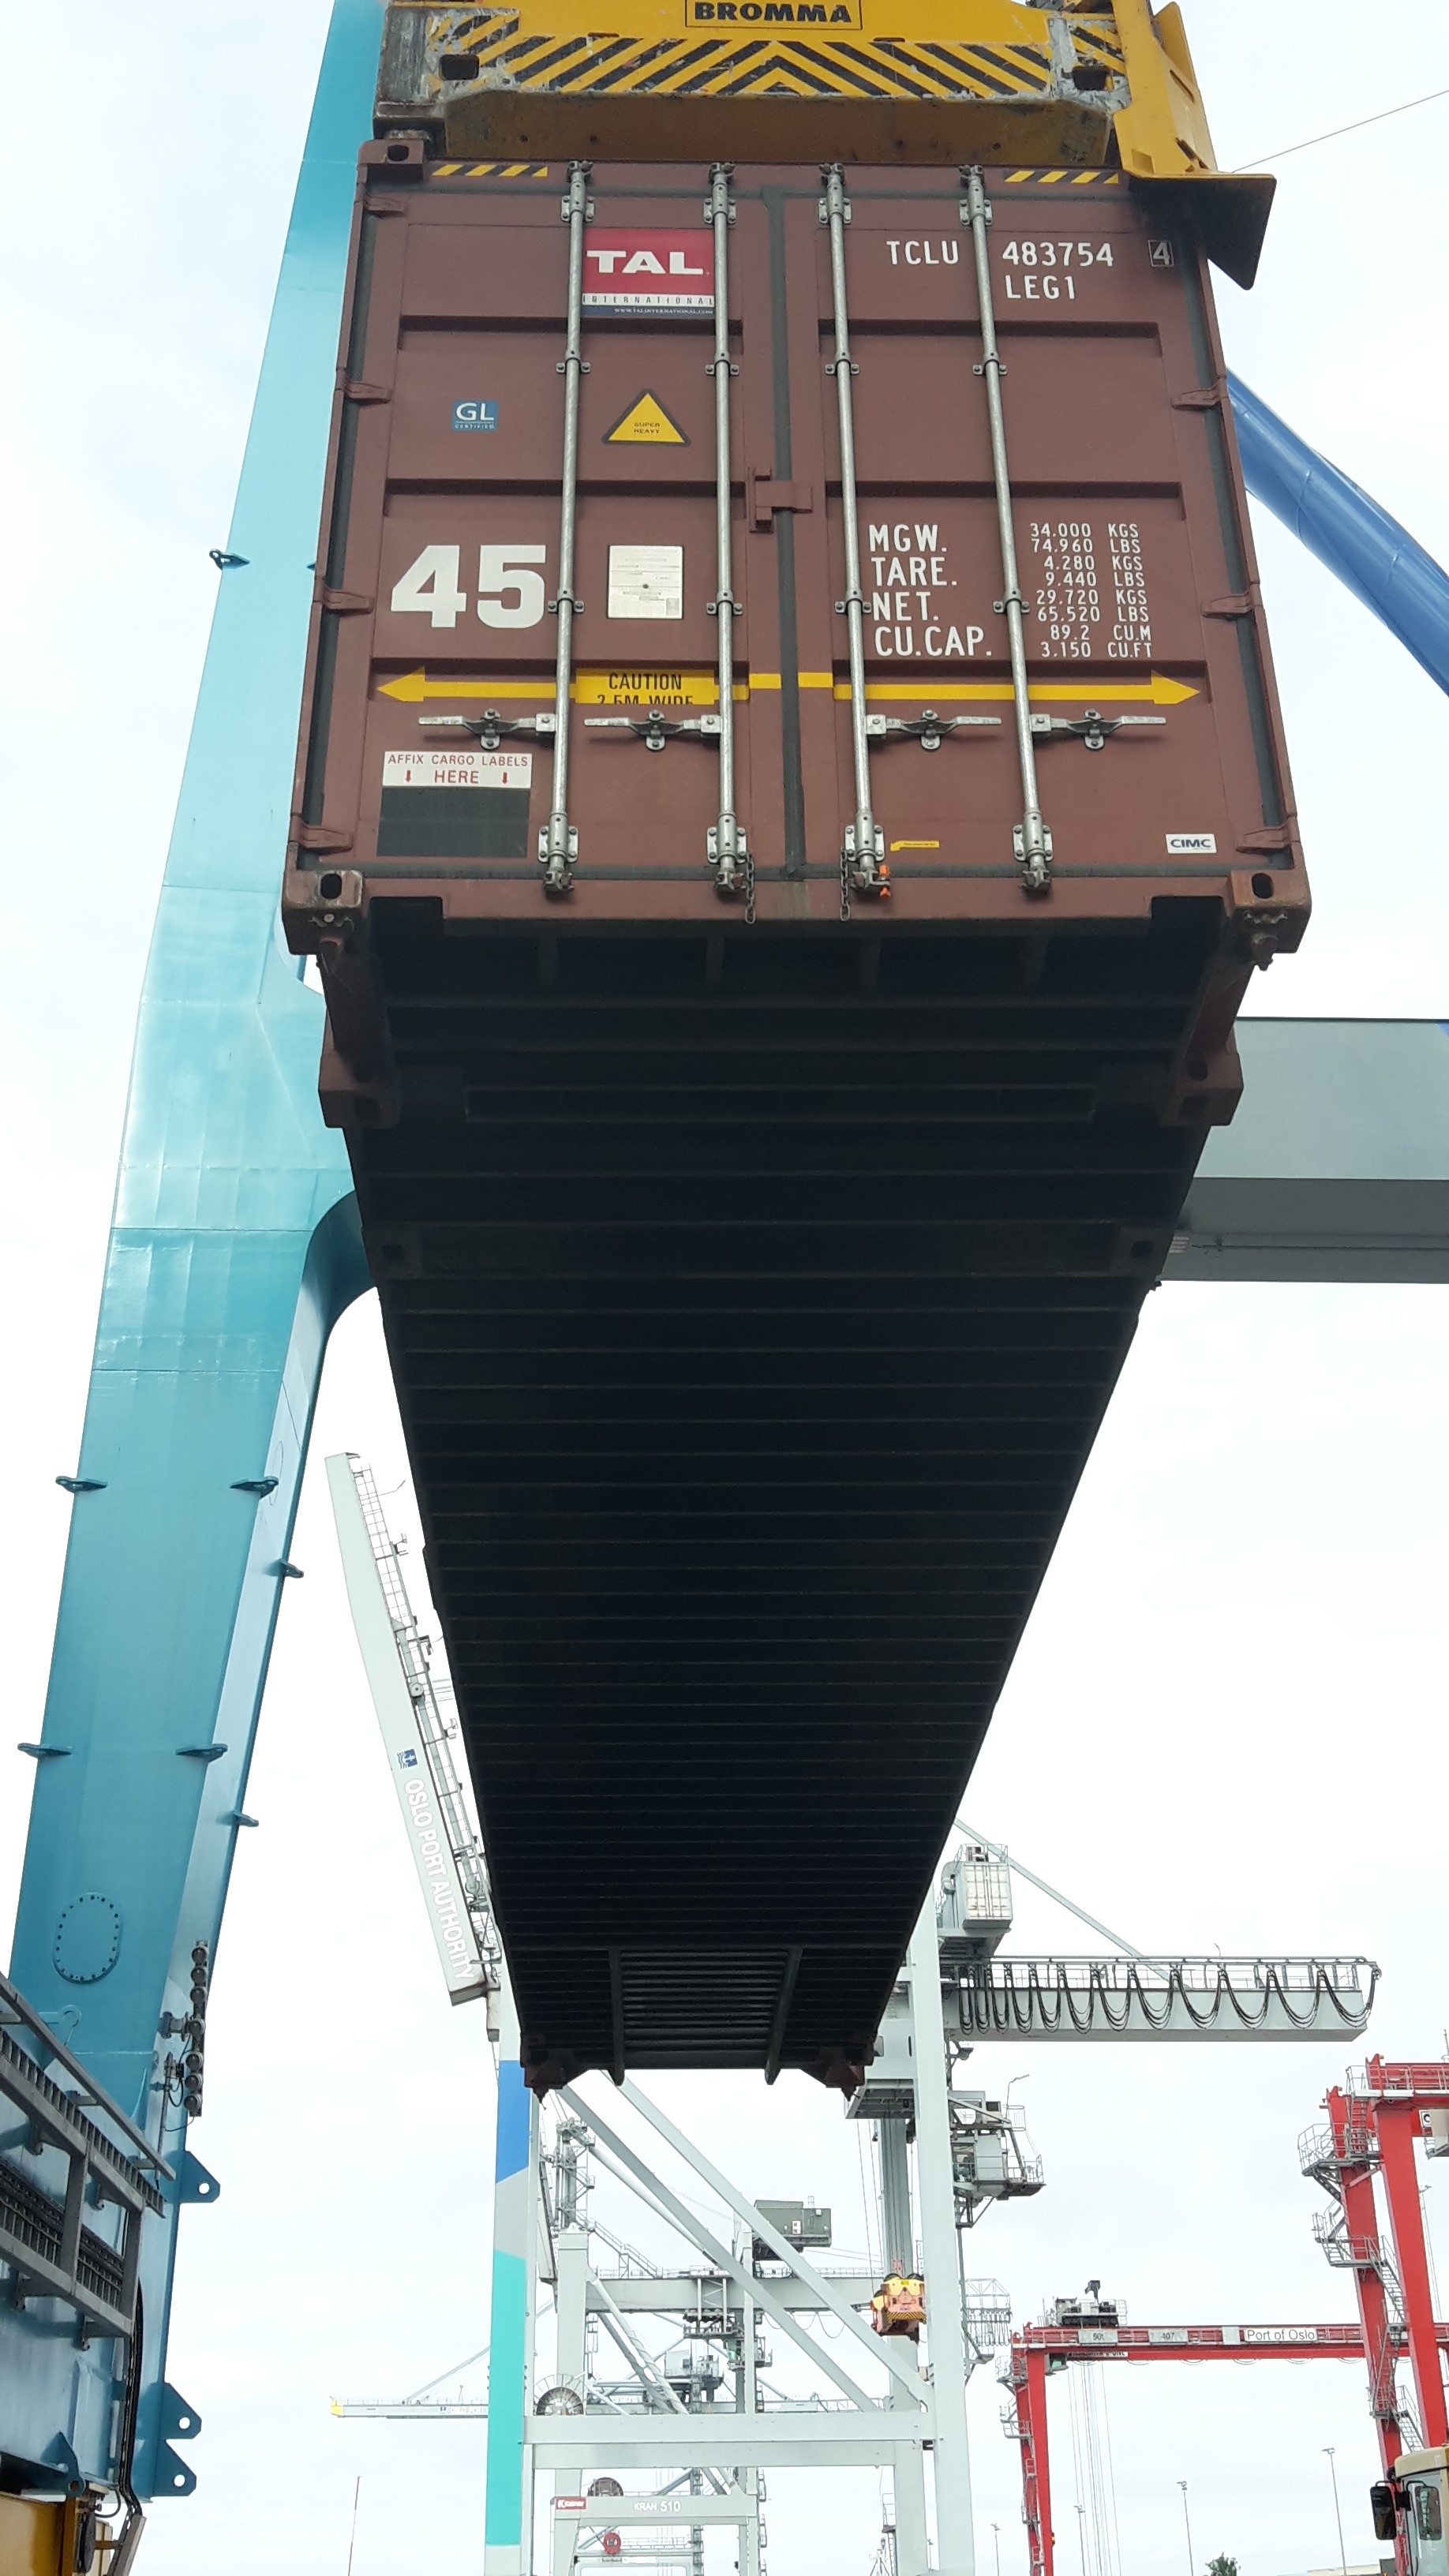container_door: (356, 131, 1224, 902)
